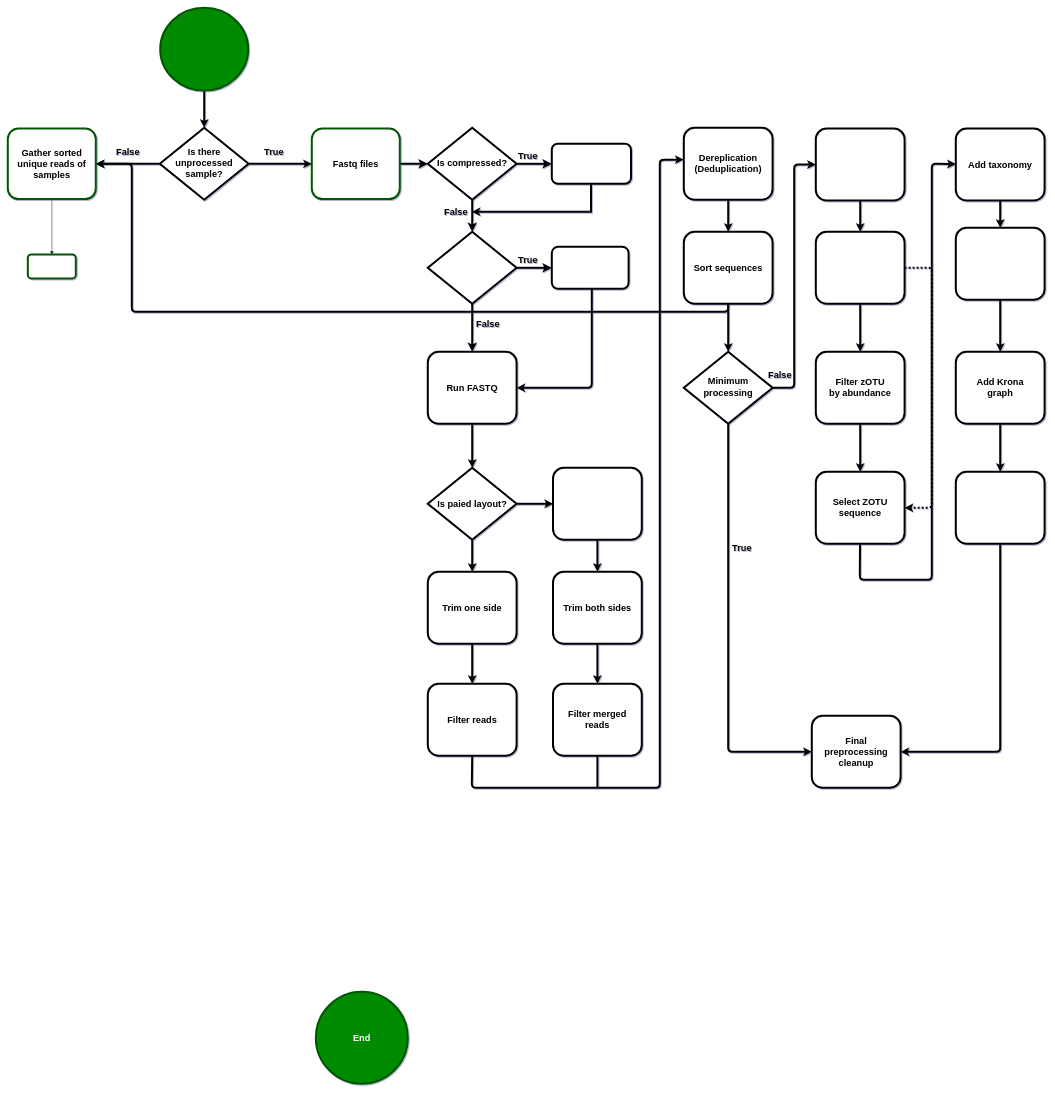
Some shapes in this 1055 by 1094 pixel diagram are drawn without their labels. Each missing label, with the centre of its shape:
Create zOTU table: [1000,264]
Decompress: [591,164]
Denoising (zOTUs creation): [860,164]
Diversity metrics calculation: [1000,508]
Filter non-16S zOTUs: [860,268]
Is spiked?: [472,268]
Merge pairs: [597,504]
Spike removal: [590,268]
Start: [204,49]
